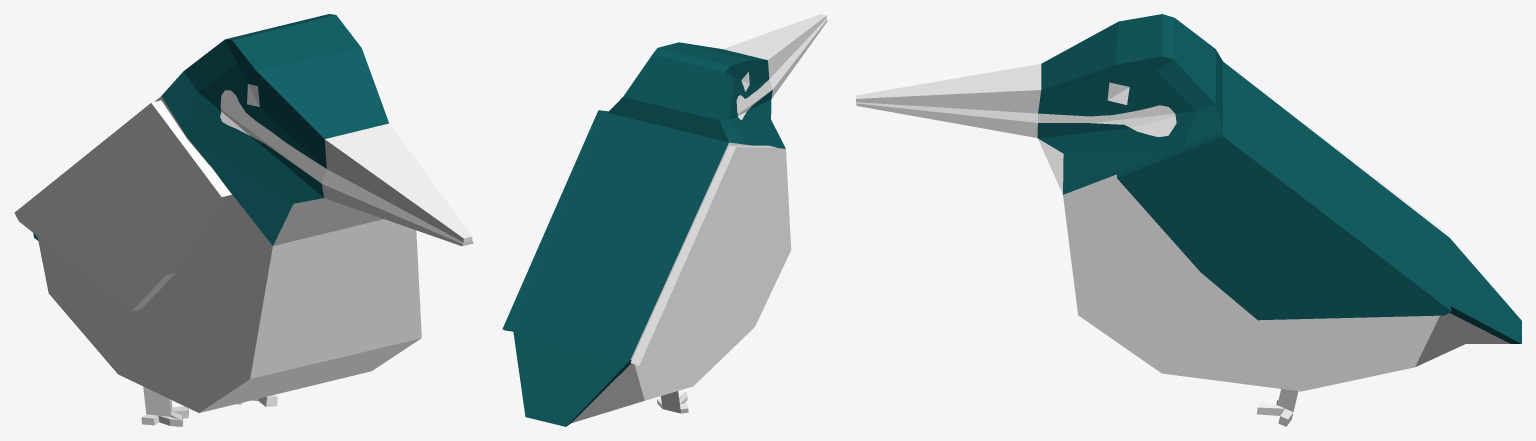
The model's file is Bird 02.glb.
3 views of the same model, side by side, from view 1: azimuth 30°, elevation 25°; view 2: azimuth 150°, elevation 25°; view 3: azimuth 270°, elevation 25° (orthographic). The views are drawn at different scales.
Parts seen in each view (by area): view 1: Cube, Cube.003; view 2: Cube, Cube.003, Cube.002; view 3: Cube, Cube.002.
Boxes of the visible parts, x1,y1,x2,y2 form: Cube: [33, 14, 473, 426]; Cube.003: [14, 100, 231, 311]; Cube: [513, 14, 827, 426]; Cube.003: [630, 145, 776, 367]; Cube.002: [502, 110, 608, 331]; Cube: [856, 14, 1521, 426]; Cube.002: [1117, 131, 1451, 320].
Size of the model in its own units: 0.9379 by 1.99 by 3.32.
